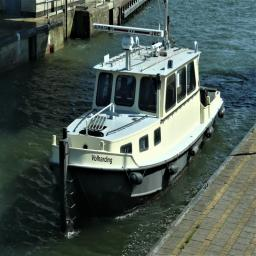tugboat: (48, 23, 228, 245)
